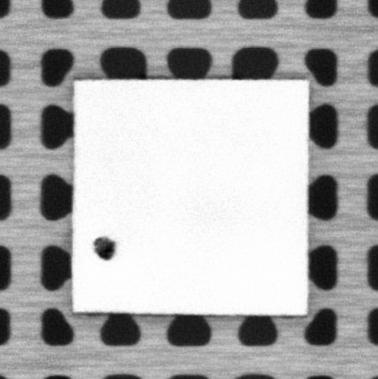DIE_INK: (91, 234, 117, 261)
